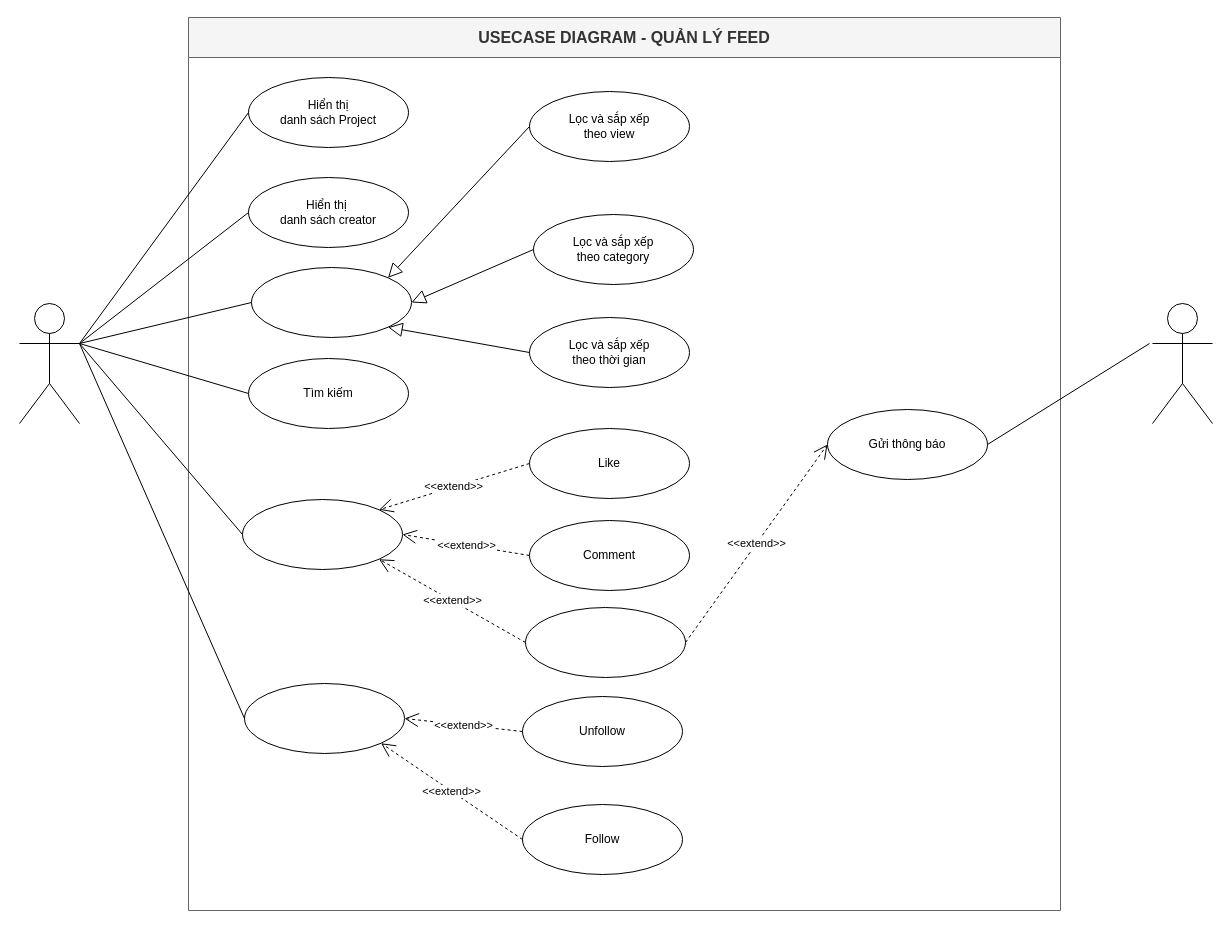
Image size: 1230x928. Some labels were removed from this diagram. The centre of each missing label's shape, as x and y in pixels:
"Lọc và sắp xếp" goes at point 331,302.
"Người dùng (User)" goes at point 49,363.
"System" goes at point 1182,363.
"Tương tác với creator khác" goes at point 324,718.
"Tương tác với project" goes at point 322,534.
"Xin apply" goes at point 605,642.
